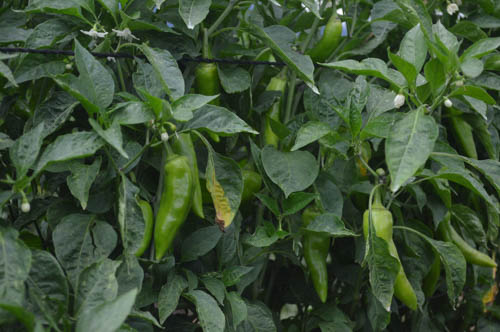ChiliPepper: (365, 206, 419, 312), (155, 157, 193, 269), (437, 219, 496, 274), (302, 207, 332, 304), (261, 75, 288, 152), (195, 61, 221, 140), (126, 200, 155, 266), (305, 17, 339, 71), (223, 170, 261, 212)
